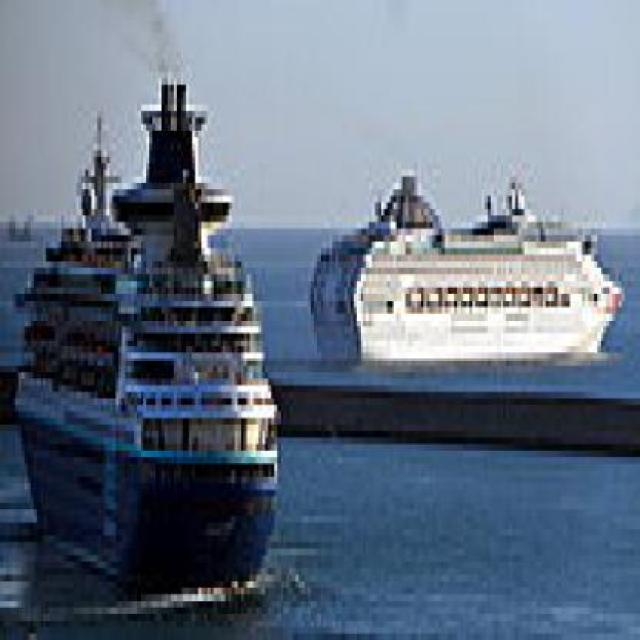cruise: (1, 60, 293, 634), (302, 158, 638, 426)
